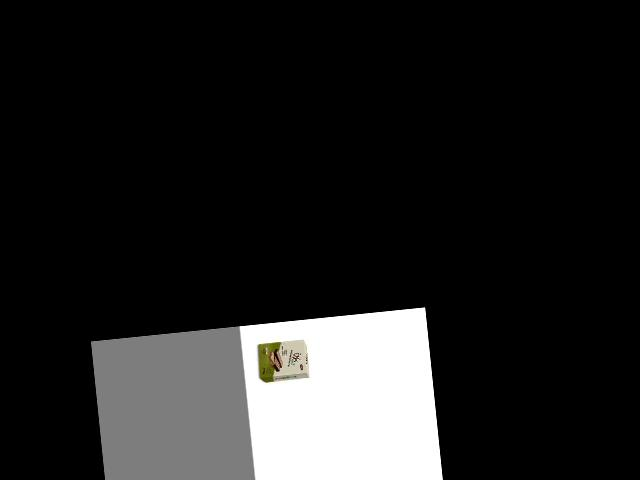chocolate: (253, 334, 311, 386)
